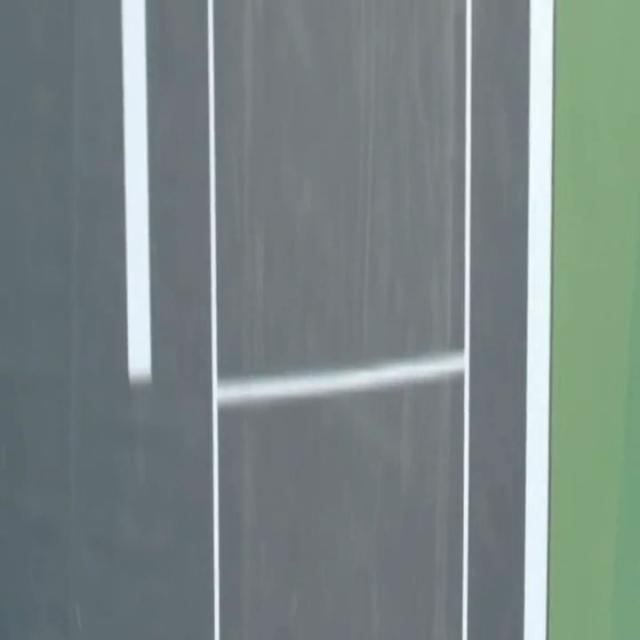center: (121, 0, 151, 384)
right: (524, 0, 553, 639)
